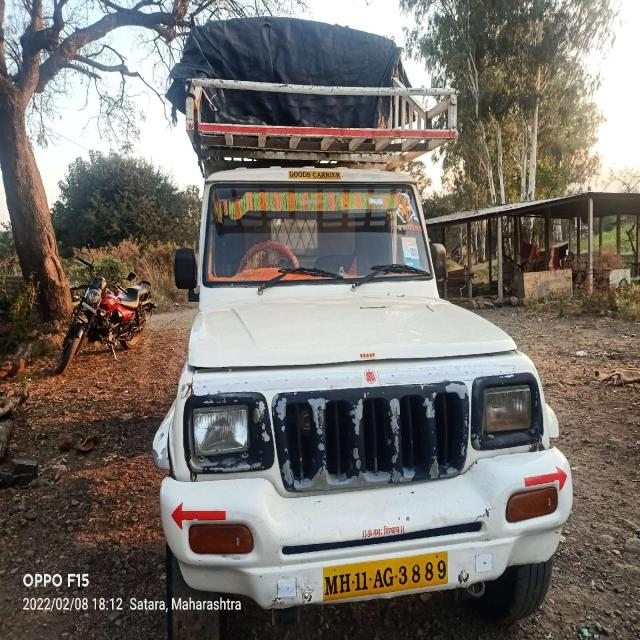light_vehicle: (154, 164, 570, 606)
